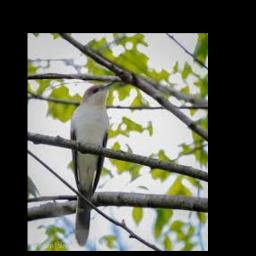Cuckoo: (71, 82, 116, 246)
